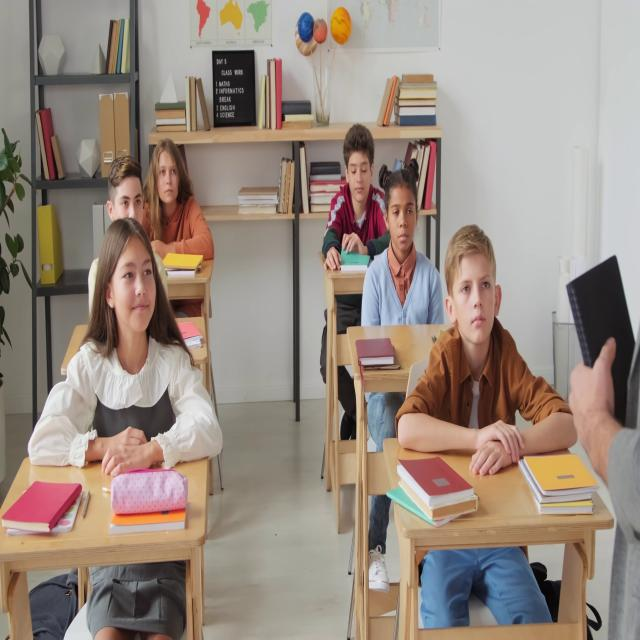listening: (395, 232, 576, 630), (27, 221, 226, 465), (360, 170, 443, 340), (88, 158, 167, 318), (144, 138, 216, 312), (322, 120, 382, 271)
